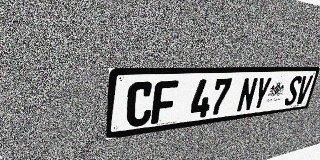4: (189, 79, 215, 119)
7: (208, 78, 232, 117)
C: (125, 81, 154, 128)
F: (151, 80, 179, 124)
N: (236, 77, 259, 113)
S: (283, 76, 303, 106)
V: (294, 75, 313, 105)
Y: (251, 77, 272, 111)
